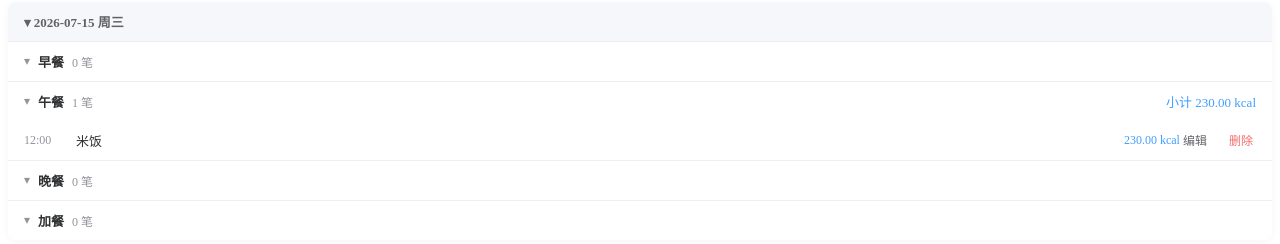
Test: DietDayGroup / 折叠 / 展开 › 默认展开（caret = ▾），点击 LUNCH 标题折叠（caret = ▸），再次点击展开
Expected: the text with test id "diet-meal-caret-2026-07-15-LUNCH" reads "▾", [24,94,30,108]
Note: 点击 LUNCH 标题折叠
Click the element with test id "diet-meal-header-2026-07-15-LUNCH" at (640, 102), box [8,82,1272,121]
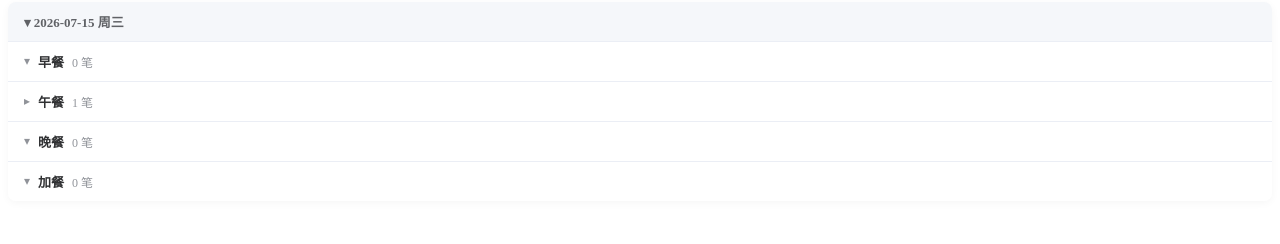
Expected: the text with test id "diet-meal-caret-2026-07-15-LUNCH" reads "▸", [24,94,30,108]
Click the element with test id "diet-meal-header-2026-07-15-LUNCH" at (640, 102), box [8,82,1272,121]
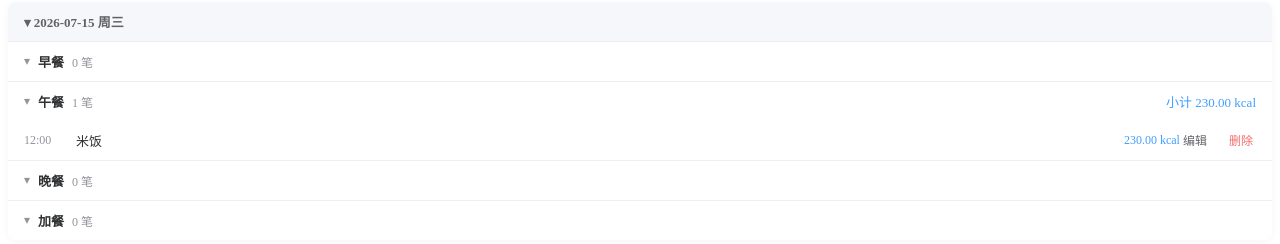
Expected: the text with test id "diet-meal-caret-2026-07-15-LUNCH" reads "▾", [24,94,30,108]
